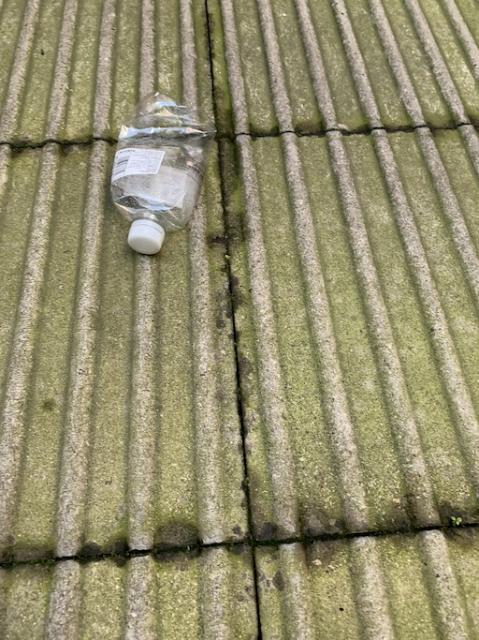plastic: (110, 91, 214, 252)
